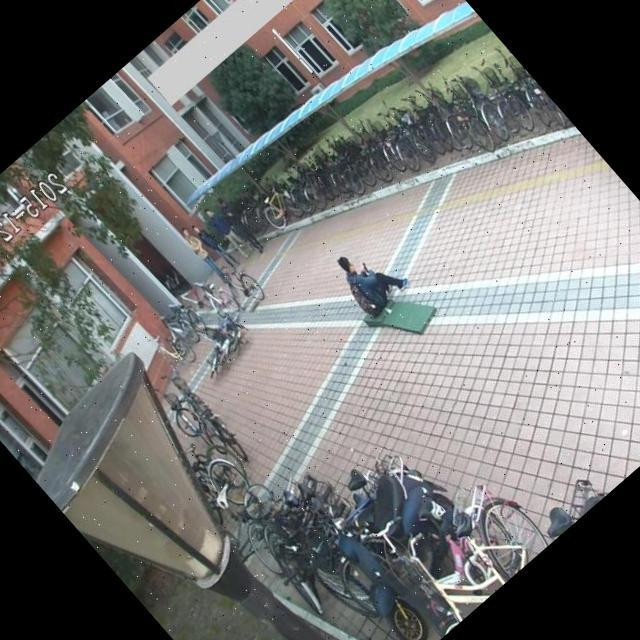person: (326, 228, 420, 325), (208, 188, 273, 259), (173, 222, 238, 292), (186, 214, 247, 281), (198, 201, 258, 266)
